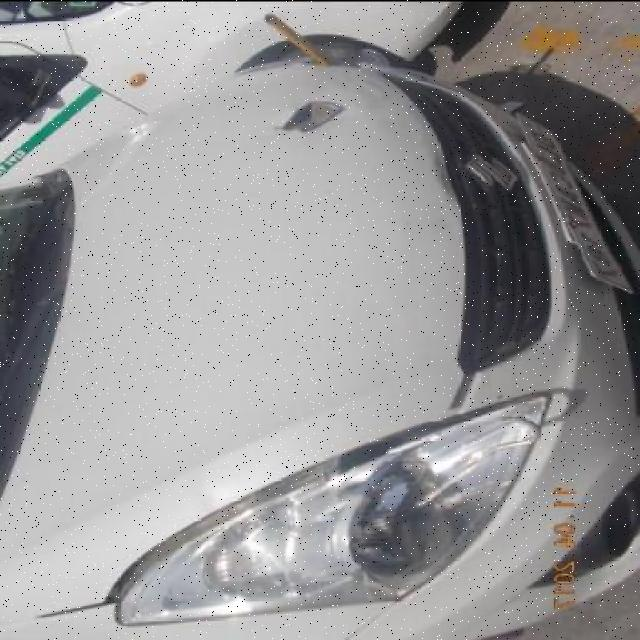damage: (327, 388, 553, 597), (280, 94, 355, 132), (427, 152, 469, 204)
